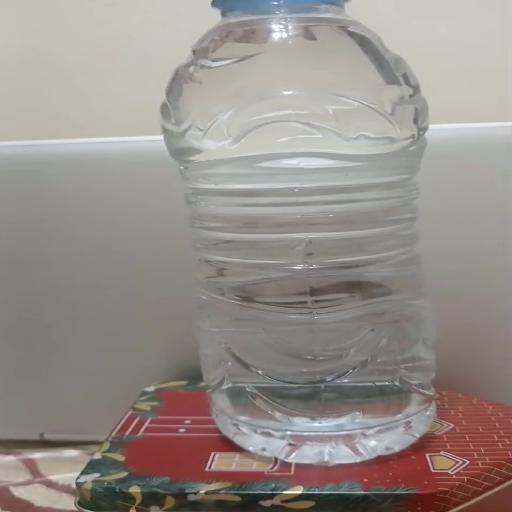bouteille non conformite: (155, 0, 473, 470)
